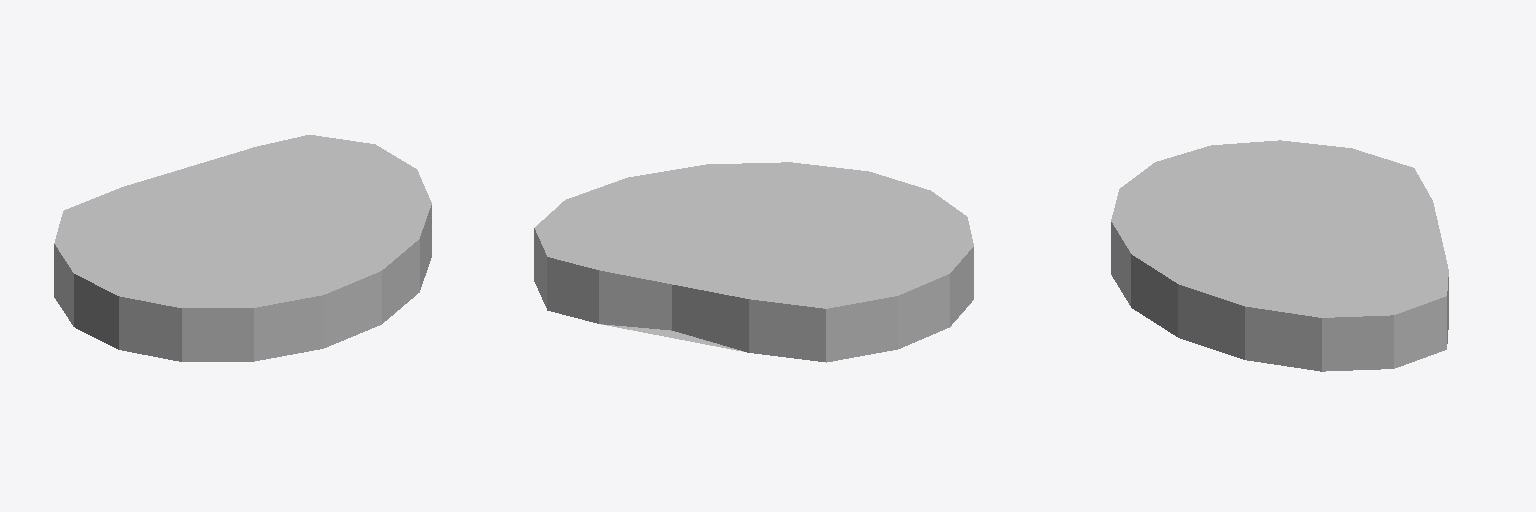
Rendered from FloorRock1.obj.
The picture shows the model from 3 angles: view 1: azimuth 30°, elevation 25°; view 2: azimuth 150°, elevation 25°; view 3: azimuth 270°, elevation 25°; orthographic projection.
Parts seen in each view (by area): view 1: Circle.004; view 2: Circle.004; view 3: Circle.004.
Boxes of the visible parts, box(x1,y1,x2,y2) form: Circle.004: box(54, 135, 431, 361); Circle.004: box(534, 162, 973, 362); Circle.004: box(1111, 140, 1448, 371).
Bounding box in the file's own units: 7.1 × 1 × 5.71.